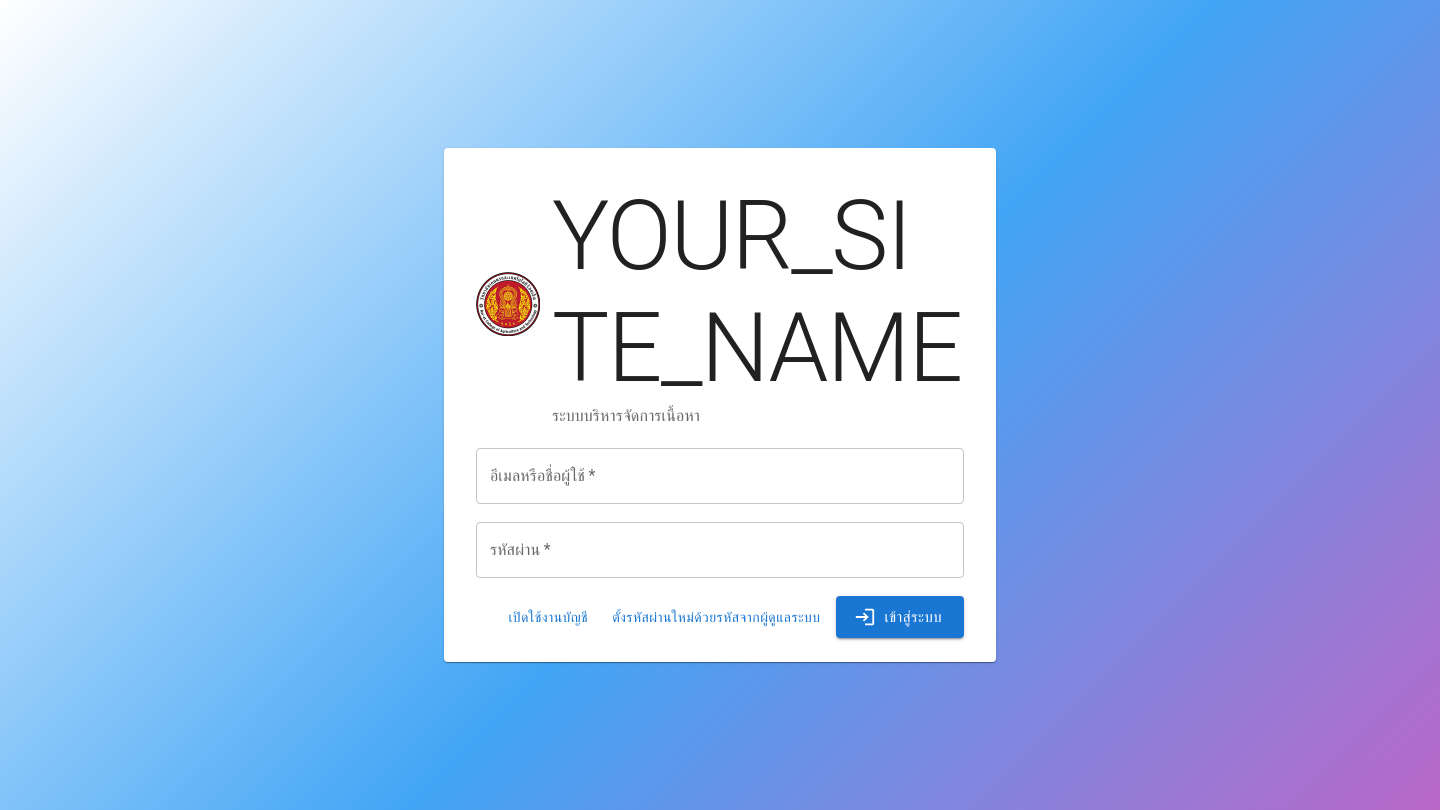
Test: CMS LoginPage › enters TOTP mode for a 202 MFA challenge
Type "editor" into the field labelled "อีเมลหรือชื่อผู้ใช้ *" at (720, 476), box [476,448,964,504]
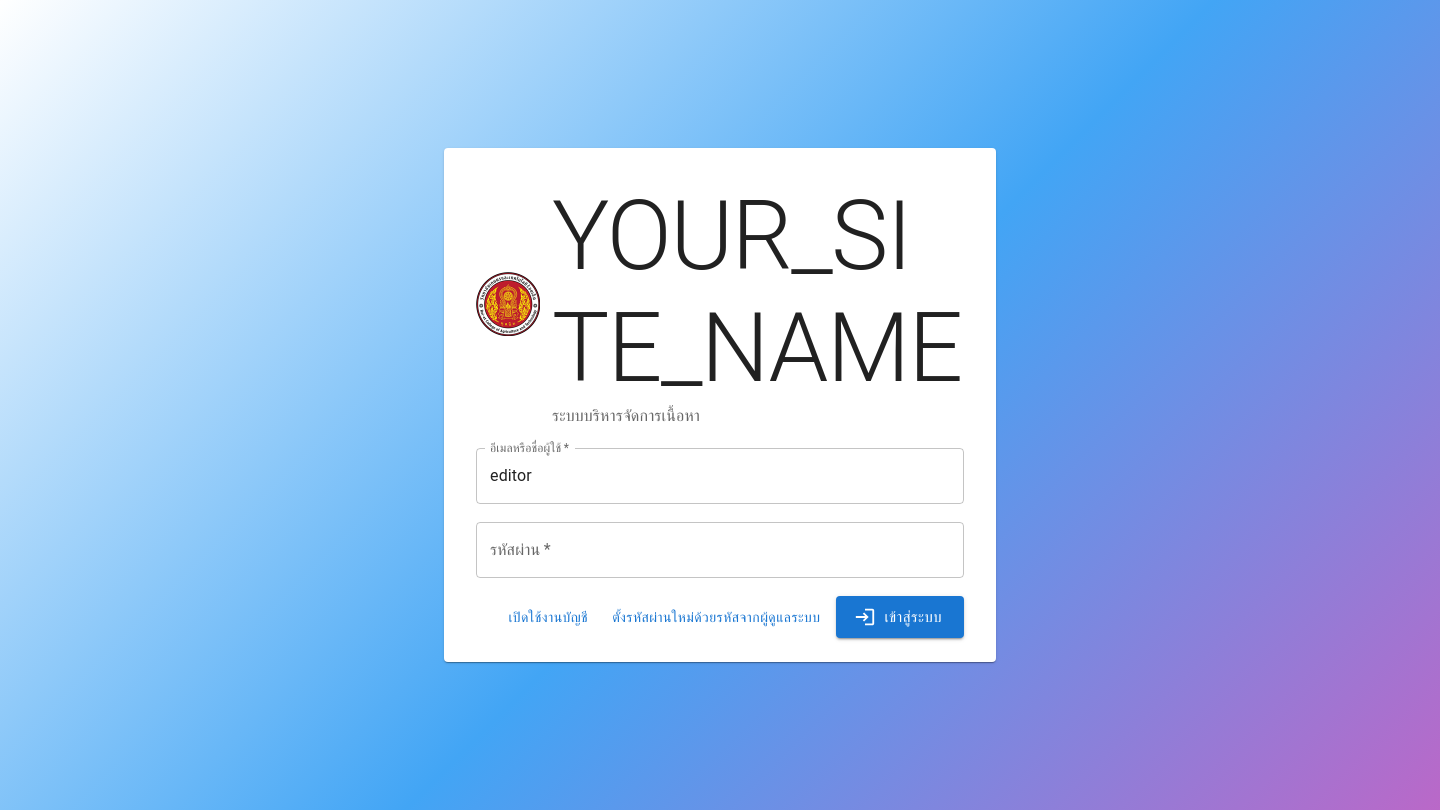
Type "password" into the password field labelled "รหัสผ่าน *" at (720, 550), box [476,522,964,578]
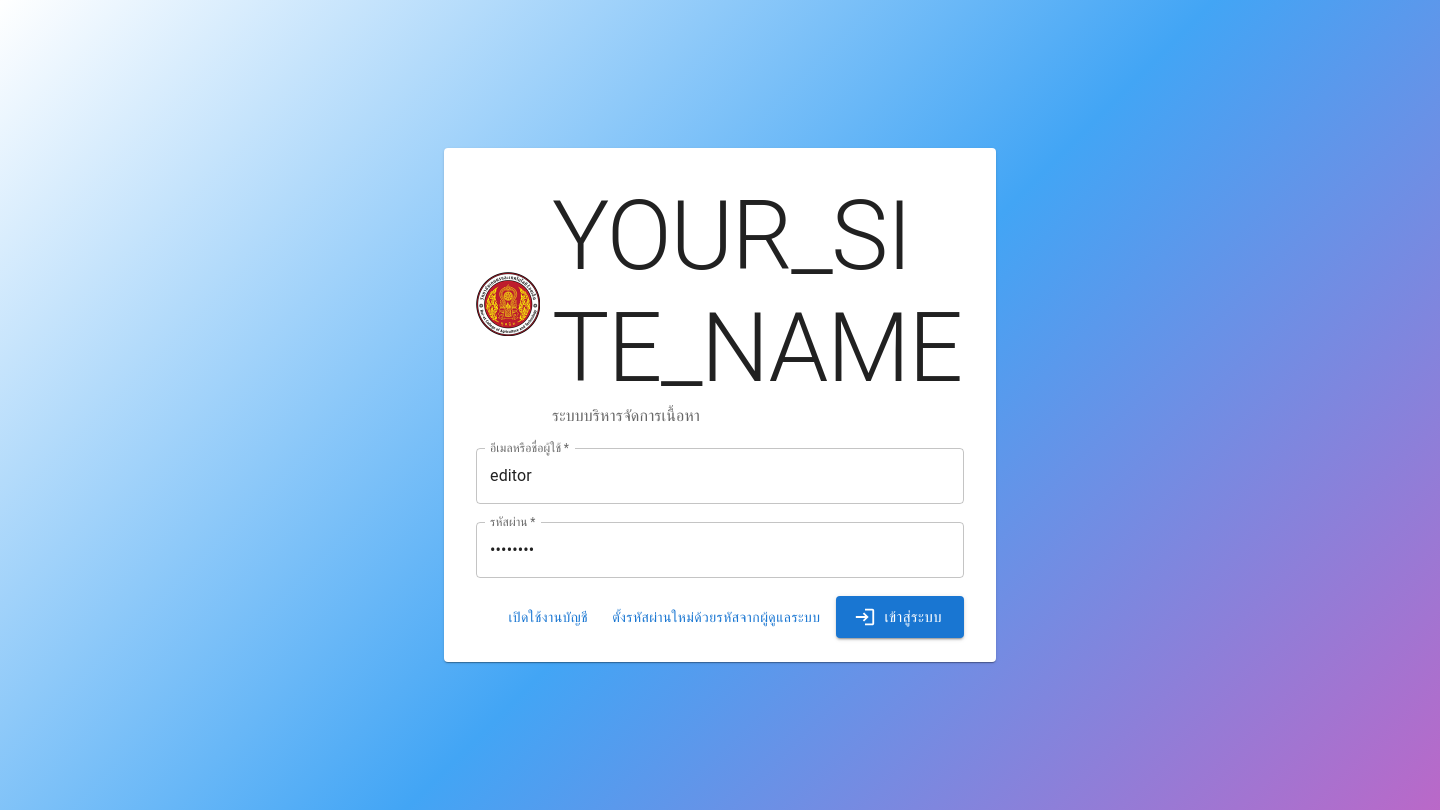
Click the button "เข้าสู่ระบบ" at (900, 617), box [836,596,964,638]
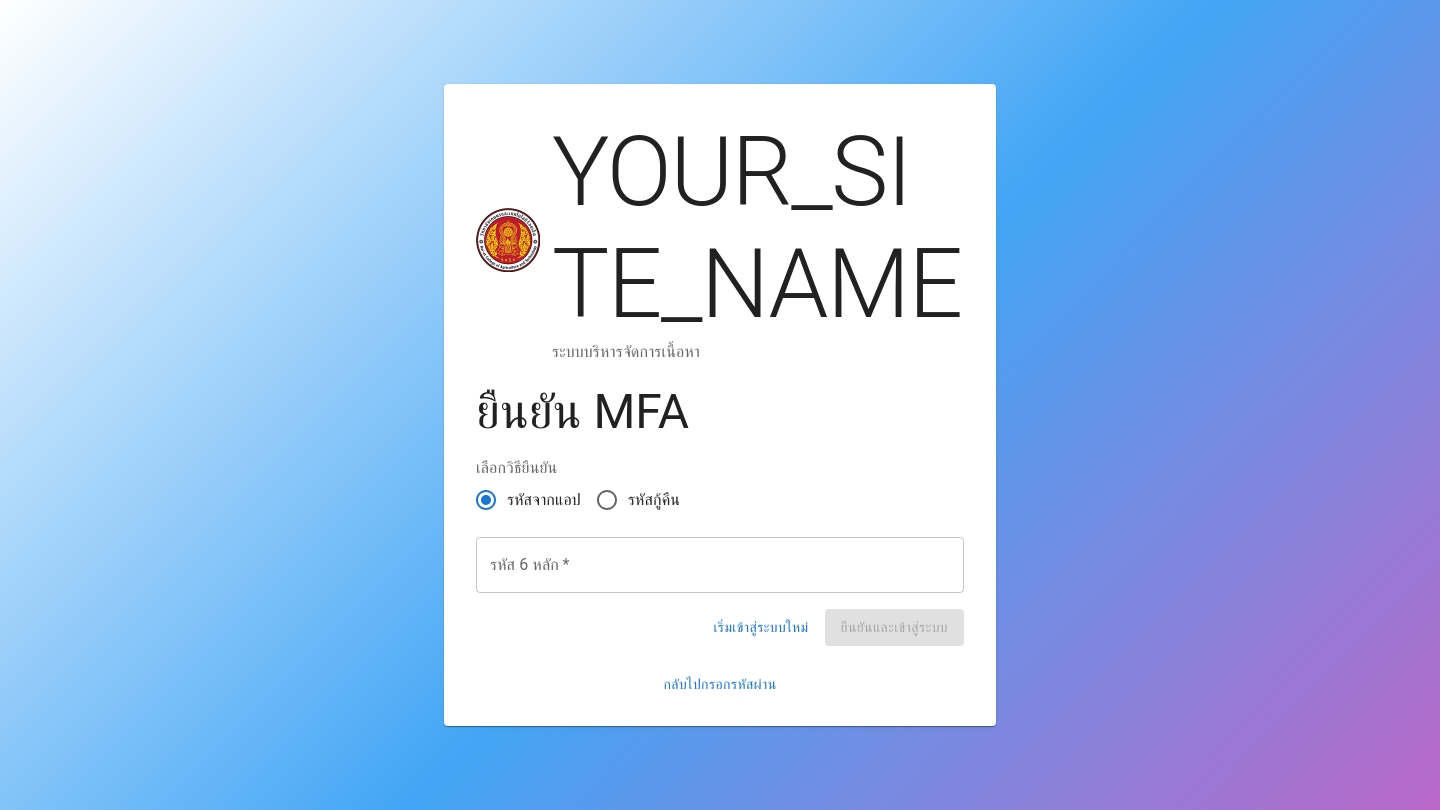
Check: the heading "ยืนยัน MFA" is shown, box [476,383,689,440]
